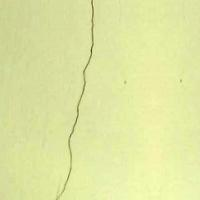crack: (57, 0, 117, 199)
